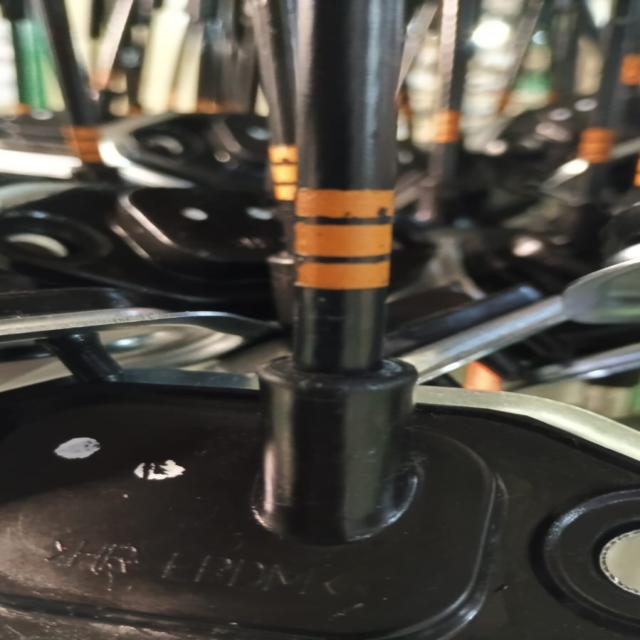orange: (297, 188, 384, 289)
